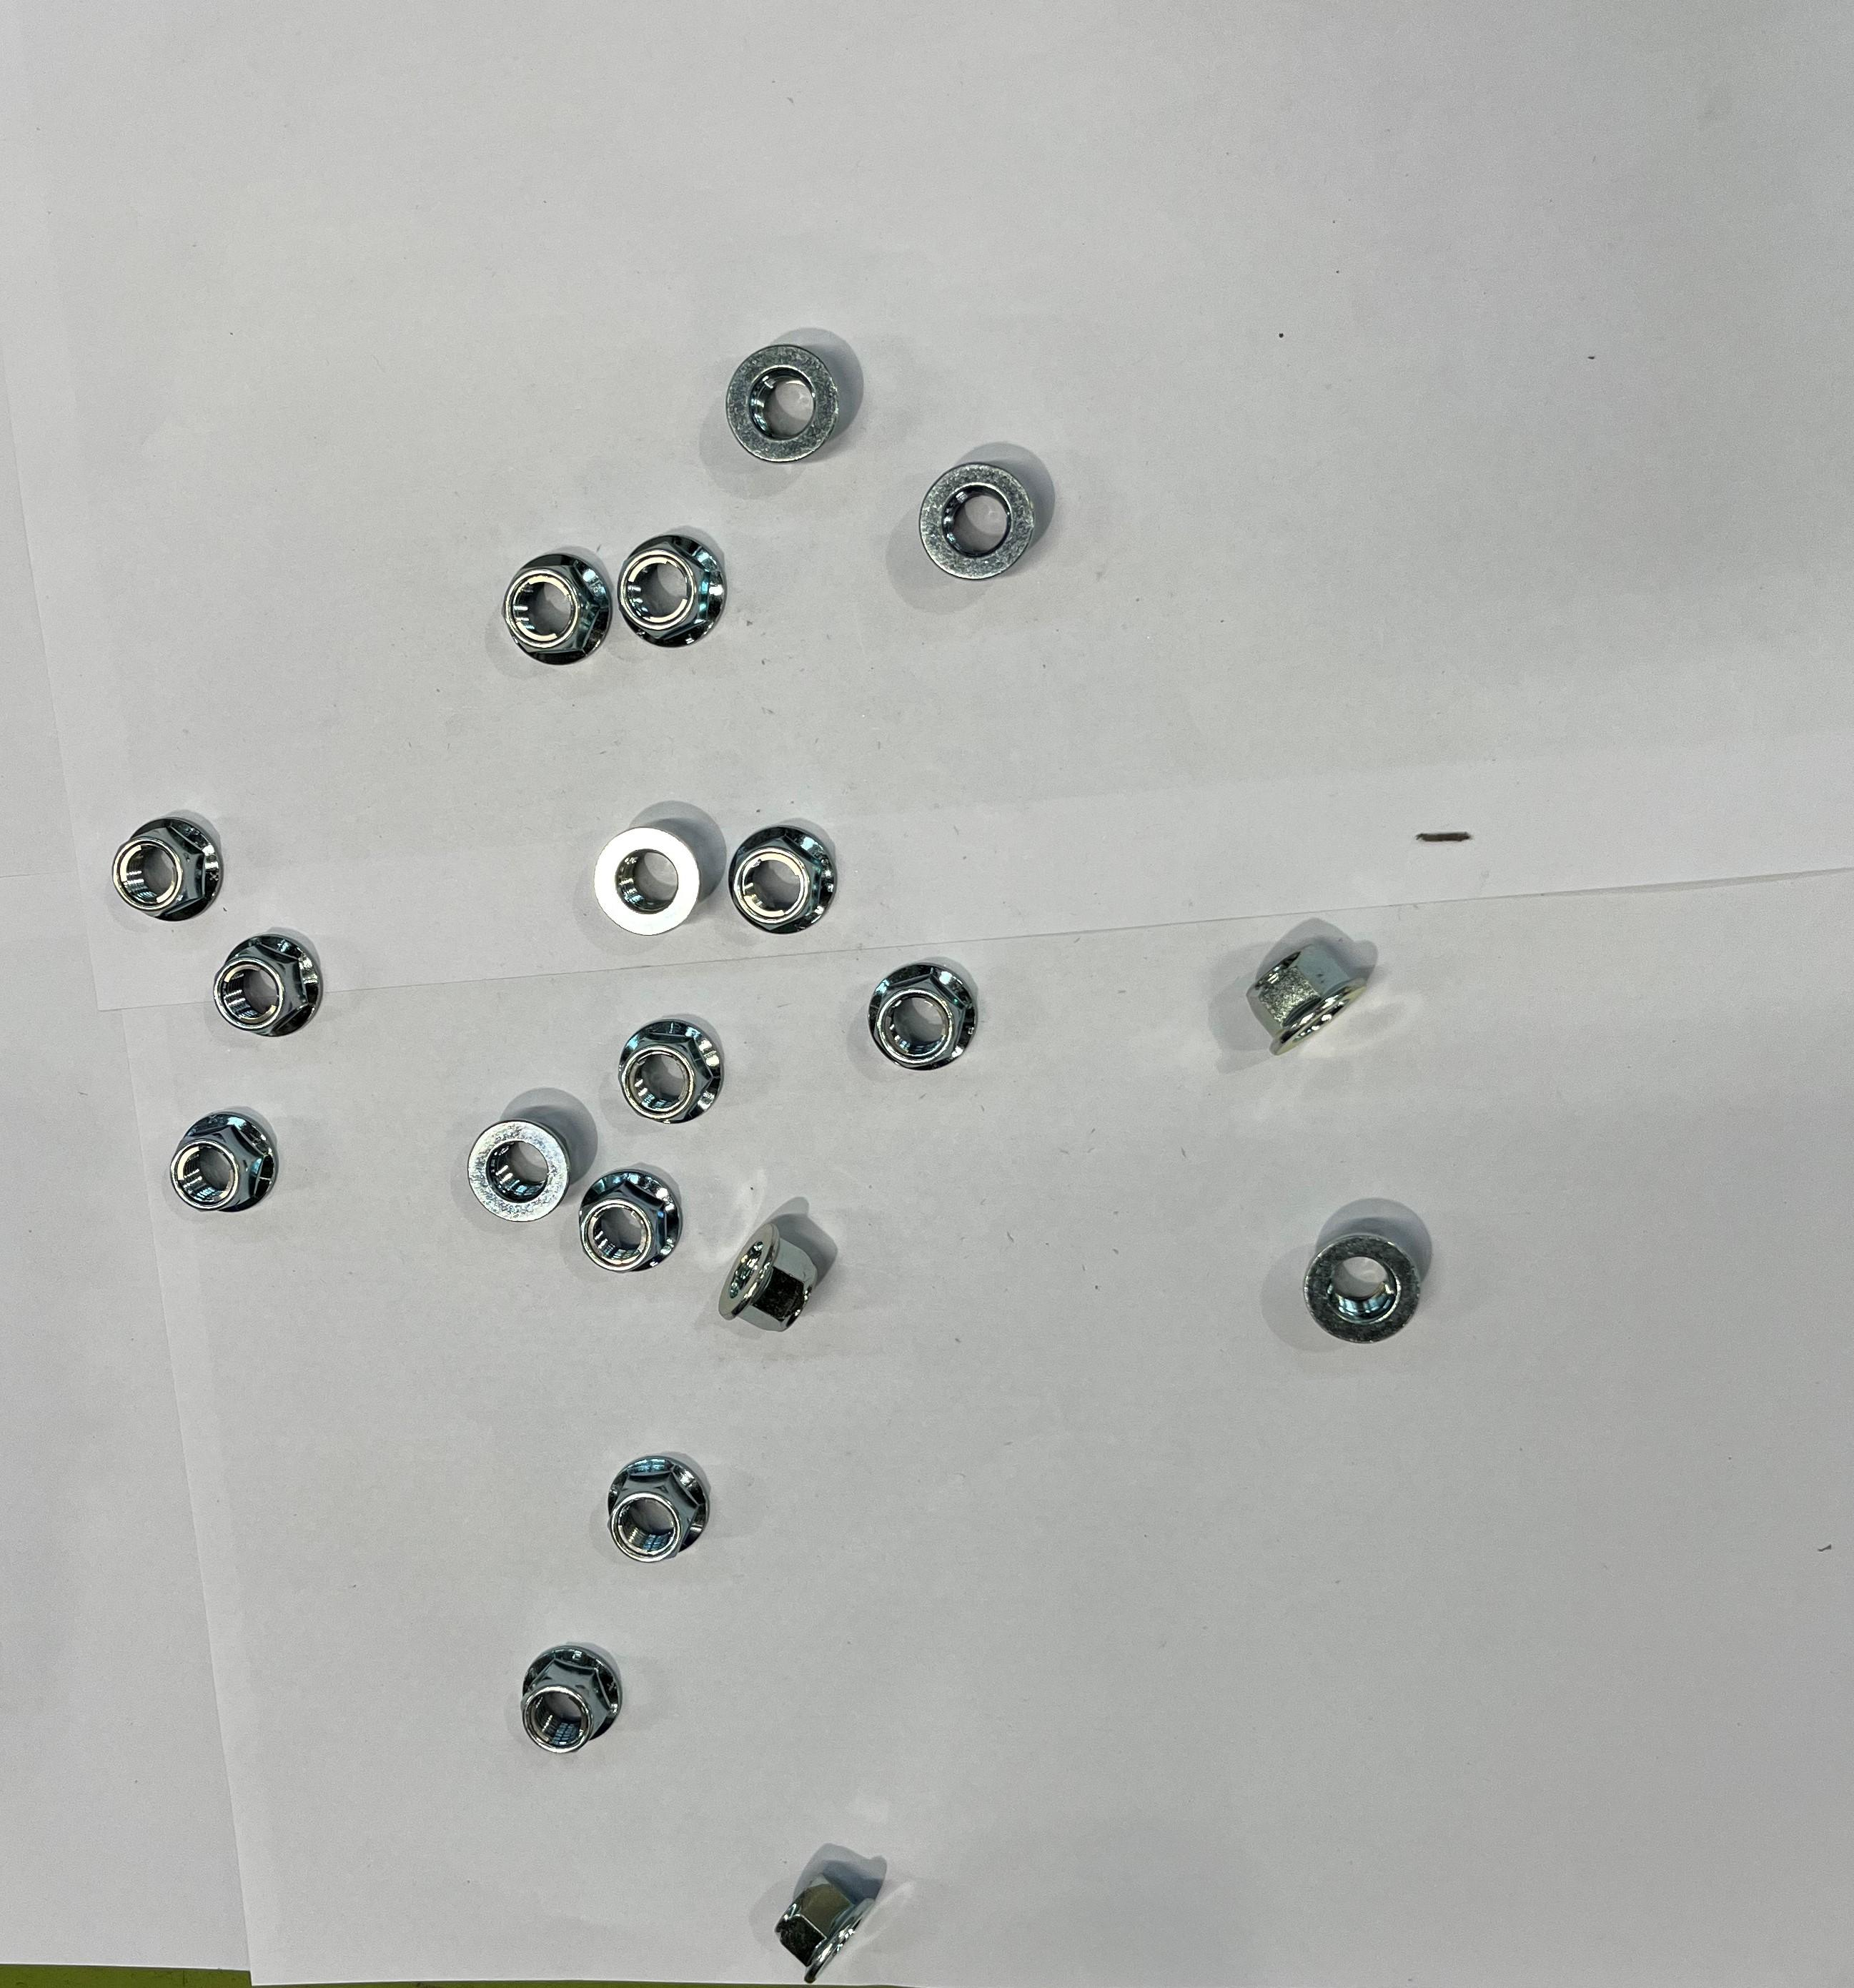Type B: (1249, 939, 1371, 1059), (725, 341, 843, 465), (920, 463, 1035, 578), (779, 1864, 882, 1988), (1305, 1235, 1420, 1345), (619, 535, 727, 650), (601, 1453, 713, 1561), (521, 1641, 626, 1755), (505, 554, 610, 666), (728, 826, 833, 936), (720, 1221, 822, 1333), (117, 817, 230, 918), (871, 962, 978, 1068), (214, 937, 322, 1042), (580, 1166, 683, 1275), (613, 1024, 723, 1127), (594, 831, 699, 937), (171, 1106, 272, 1214), (470, 1115, 568, 1221)
